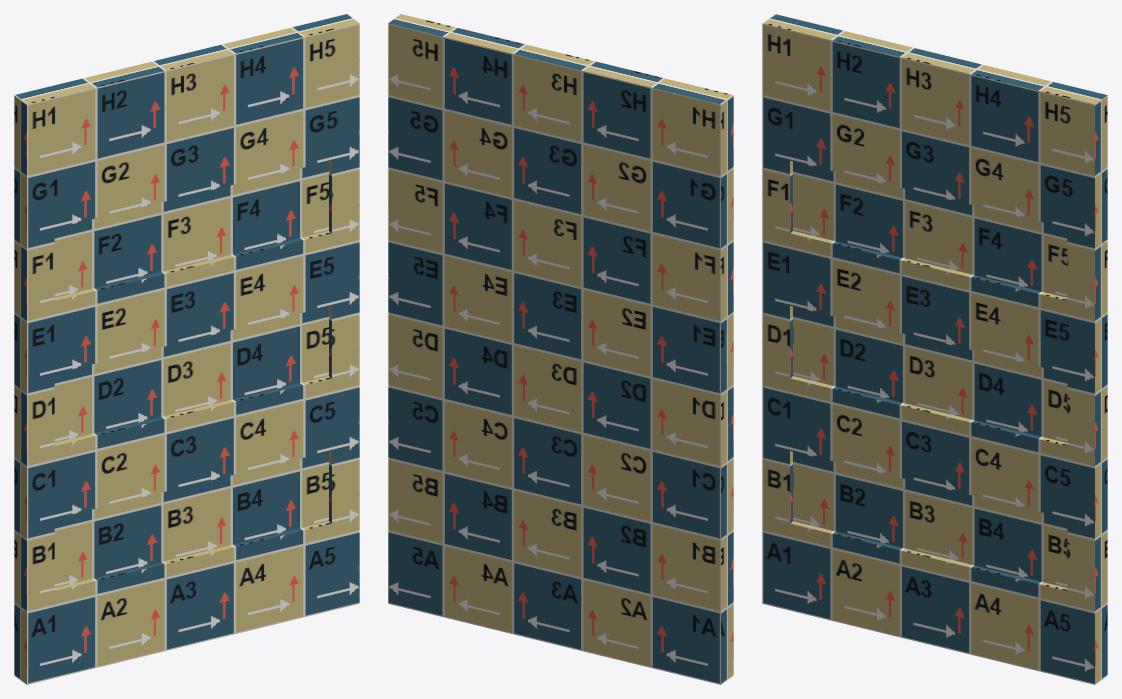
File: DOOR_Leaf_Industrial.fbx
3 renders of one model, left to right at view 1: azimuth 30°, elevation 25°; view 2: azimuth 150°, elevation 25°; view 3: azimuth 330°, elevation 25°, orthographic.
Parts seen in each view (by area): view 1: DOOR_Leaf_Industrial; view 2: DOOR_Leaf_Industrial; view 3: DOOR_Leaf_Industrial.
Boxes of the visible parts, x1=… form: DOOR_Leaf_Industrial: x1=14, y1=14, x2=359, y2=684; DOOR_Leaf_Industrial: x1=388, y1=14, x2=733, y2=684; DOOR_Leaf_Industrial: x1=762, y1=14, x2=1107, y2=684.
Size of the model in its own units: 120 by 200 by 8.
Materials: 1 (1 with a texture image).
